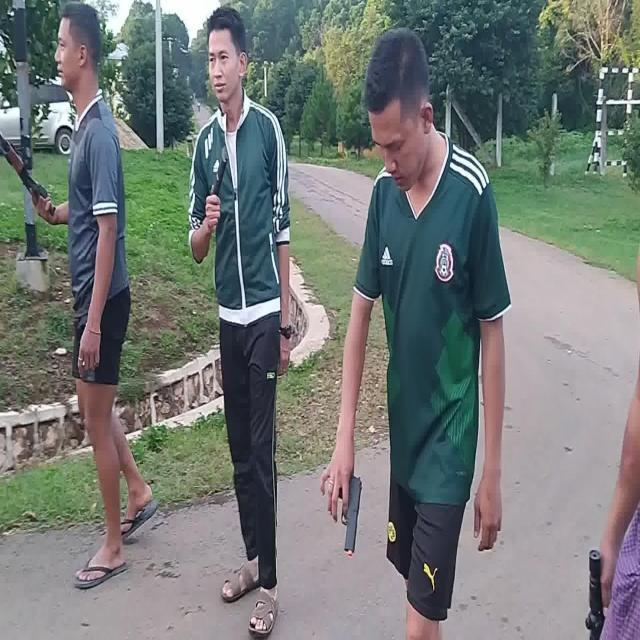gun: (3, 139, 57, 215), (341, 474, 362, 552)
